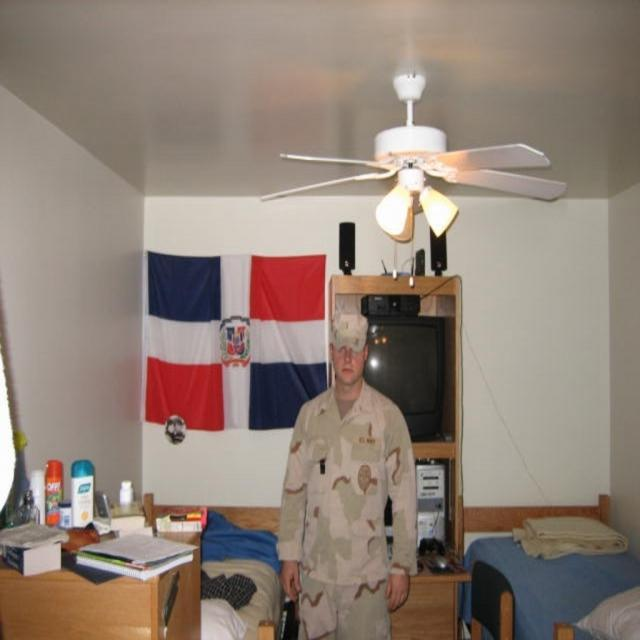Bulb: (261, 76, 568, 283)
